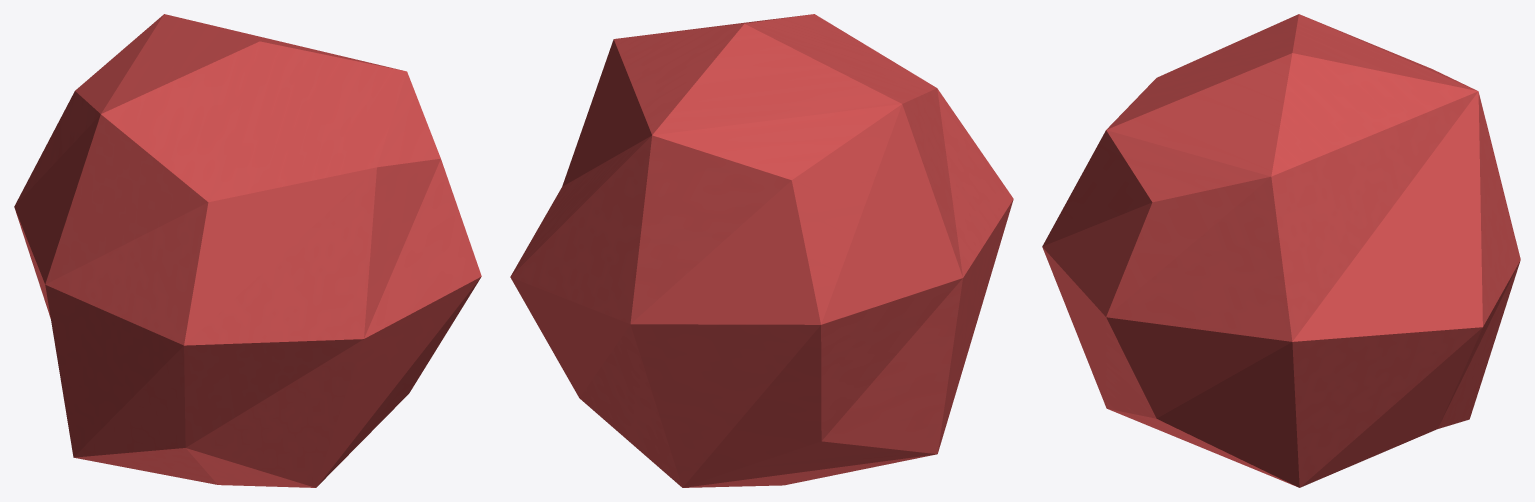
Rendered from fish_Particle_A.fbx.
3 renders of one model, left to right at view 1: azimuth 30°, elevation 25°; view 2: azimuth 150°, elevation 25°; view 3: azimuth 270°, elevation 25°, orthographic. The views are drawn at different scales.
Parts seen in each view (by area): view 1: Box002; view 2: Box002; view 3: Box002.
Boxes of the visible parts, left/top/right/bottom form: Box002: left=14, top=14, right=481, bottom=487; Box002: left=510, top=14, right=1013, bottom=487; Box002: left=1042, top=14, right=1520, bottom=487.
Size of the model in its own units: 0.673 by 0.7191 by 0.7114.
